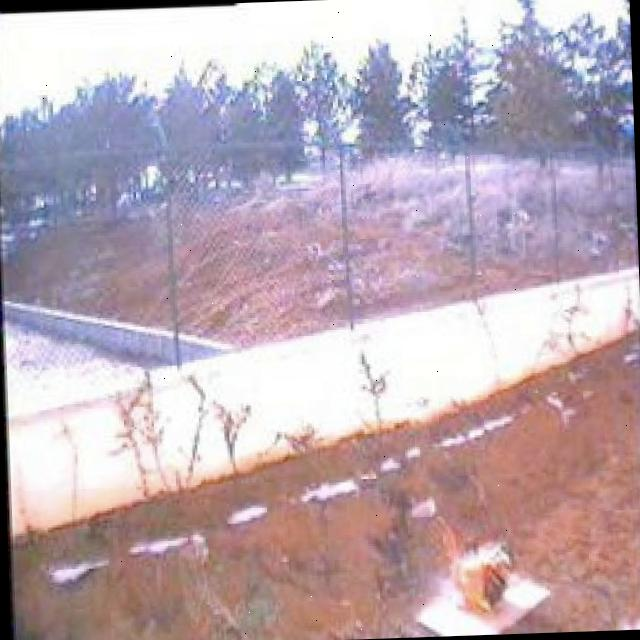fire: (430, 512, 520, 620)
